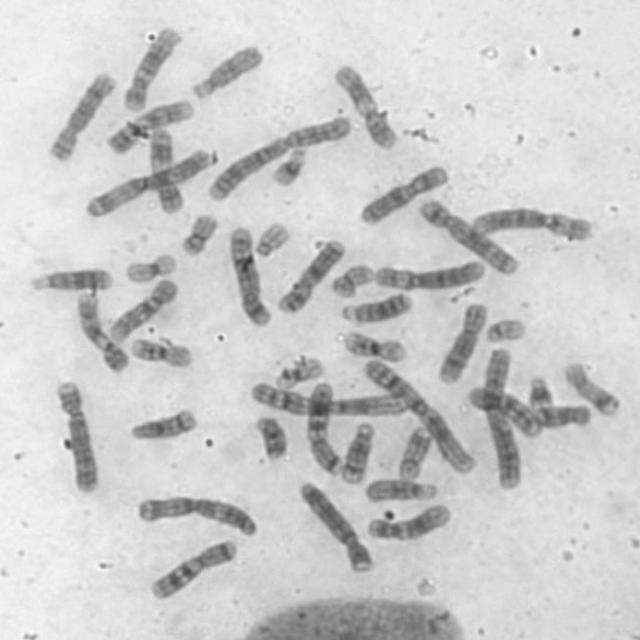A1: (360, 356, 480, 475), (246, 378, 407, 418)
A2: (203, 111, 355, 203), (478, 342, 526, 492)
A3: (80, 144, 217, 218), (129, 490, 261, 539)
B4: (294, 476, 377, 576), (52, 375, 102, 495)
B5: (416, 194, 522, 276), (225, 222, 273, 328)
C10: (105, 276, 179, 342), (464, 382, 544, 440)
C11: (328, 61, 398, 152), (144, 126, 186, 214)
C12: (119, 23, 184, 112), (362, 499, 454, 543)
C6: (466, 202, 598, 243), (371, 256, 487, 293)
C7: (144, 535, 240, 603), (304, 378, 345, 477)
C8: (44, 66, 117, 162), (435, 298, 489, 385)
C9: (104, 96, 194, 155), (73, 289, 131, 374)
D13: (336, 288, 415, 325), (25, 264, 116, 294)
D14: (125, 407, 198, 442), (338, 419, 376, 484)
D15: (188, 40, 266, 101), (359, 476, 438, 504)
E16: (338, 327, 408, 363), (127, 334, 196, 370)
E17: (559, 357, 624, 419), (396, 422, 434, 481)
E18: (249, 411, 289, 462), (531, 400, 594, 430)
F19: (268, 353, 326, 391), (121, 251, 178, 285)
F20: (177, 210, 219, 257), (326, 260, 374, 300)
G21: (267, 142, 309, 189), (522, 369, 556, 414)
G22: (251, 218, 293, 259), (482, 315, 528, 345)
X: (354, 160, 452, 228), (273, 234, 347, 315)
